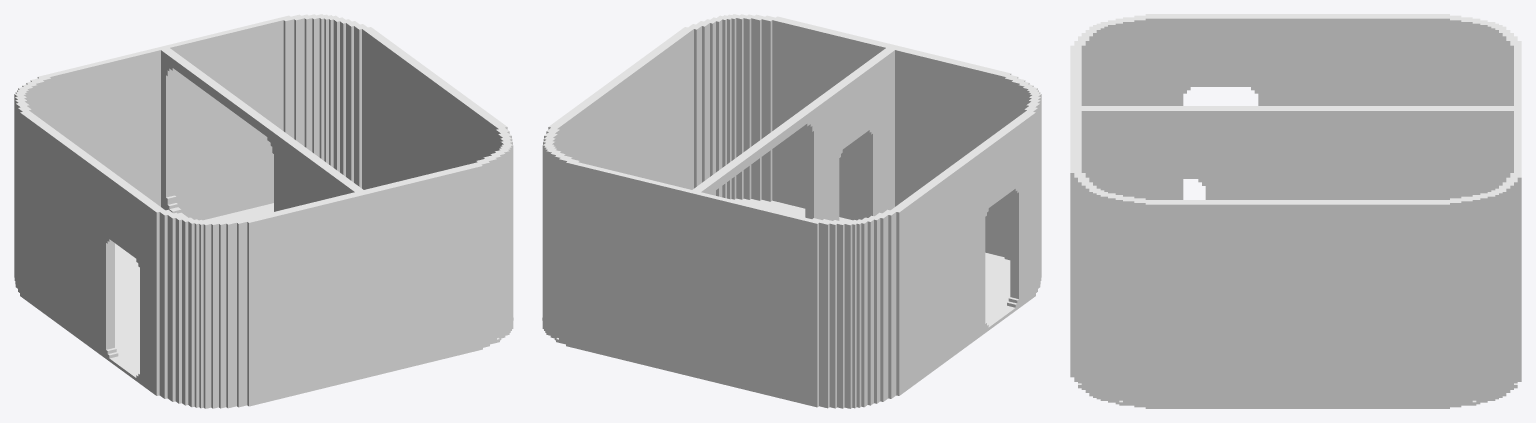
The model's file is Room_01-5.obj.
The picture shows the model from 3 angles, left to right: view 1: azimuth 30°, elevation 25°; view 2: azimuth 150°, elevation 25°; view 3: azimuth 270°, elevation 25°; orthographic projection. The views are drawn at different scales.
Size of the model in its own units: 12 by 6 by 12.
